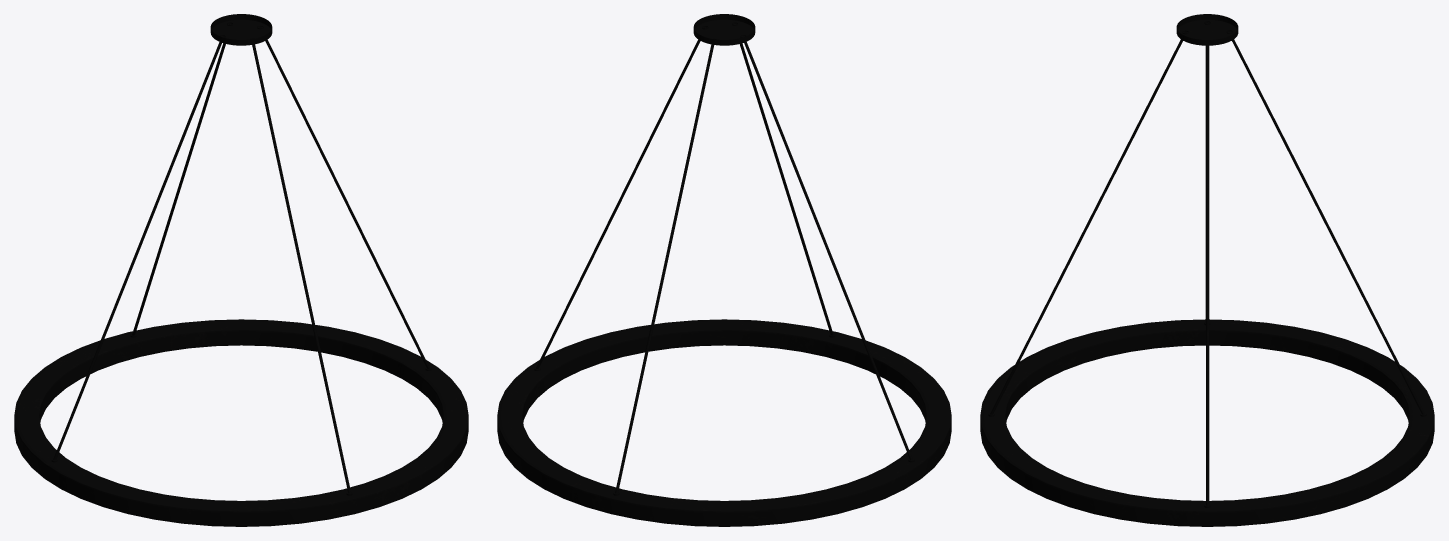
Rendered from lampara.obj.
3 renders of one model, left to right at view 1: azimuth 30°, elevation 25°; view 2: azimuth 150°, elevation 25°; view 3: azimuth 270°, elevation 25°, orthographic.
Visible parts, largest first — view 1: Box002; view 2: Box002; view 3: Box002.
Part boxes in pixels (x1=…): Box002: x1=14, y1=14, x2=468, y2=526; Box002: x1=497, y1=14, x2=951, y2=526; Box002: x1=980, y1=14, x2=1434, y2=526.
Size of the model in its own units: 5.7 by 5.59 by 5.7.
2 materials, 2 textured.
